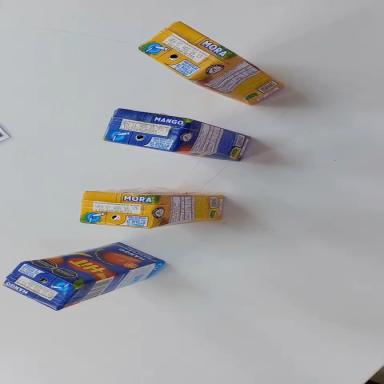HIT-MANGO: (0, 217, 168, 325), (103, 107, 251, 164)
HIT-MORA: (137, 10, 285, 124), (80, 188, 224, 232)
cara_F: (24, 223, 163, 300)
